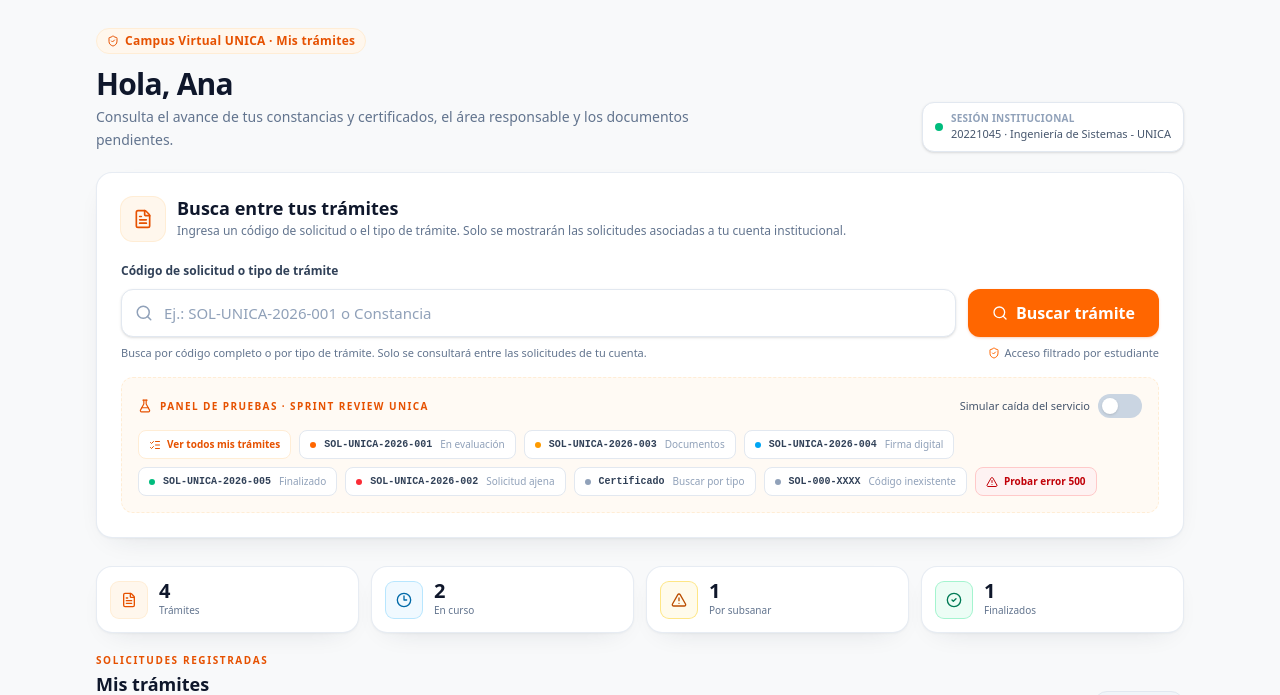
Scenario: Campus Virtual UNICA · integración UI › muestra la fase de firma digital
In the field labelled "Código de solicitud o tipo de trámite": (538, 312) top-left (121, 288), bottom-right (956, 336), type "SOL-UNICA-2026-004"
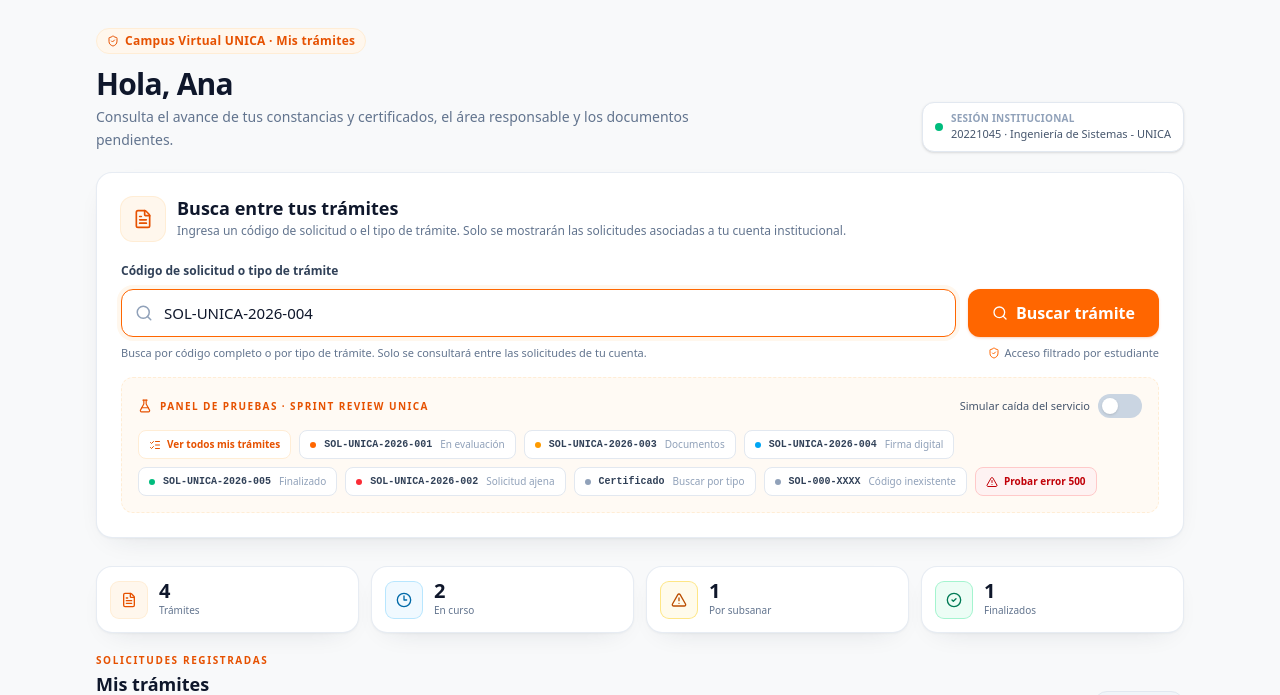
Click the button "Buscar trámite": (1063, 312) top-left (968, 288), bottom-right (1159, 336)
(page scrolled)
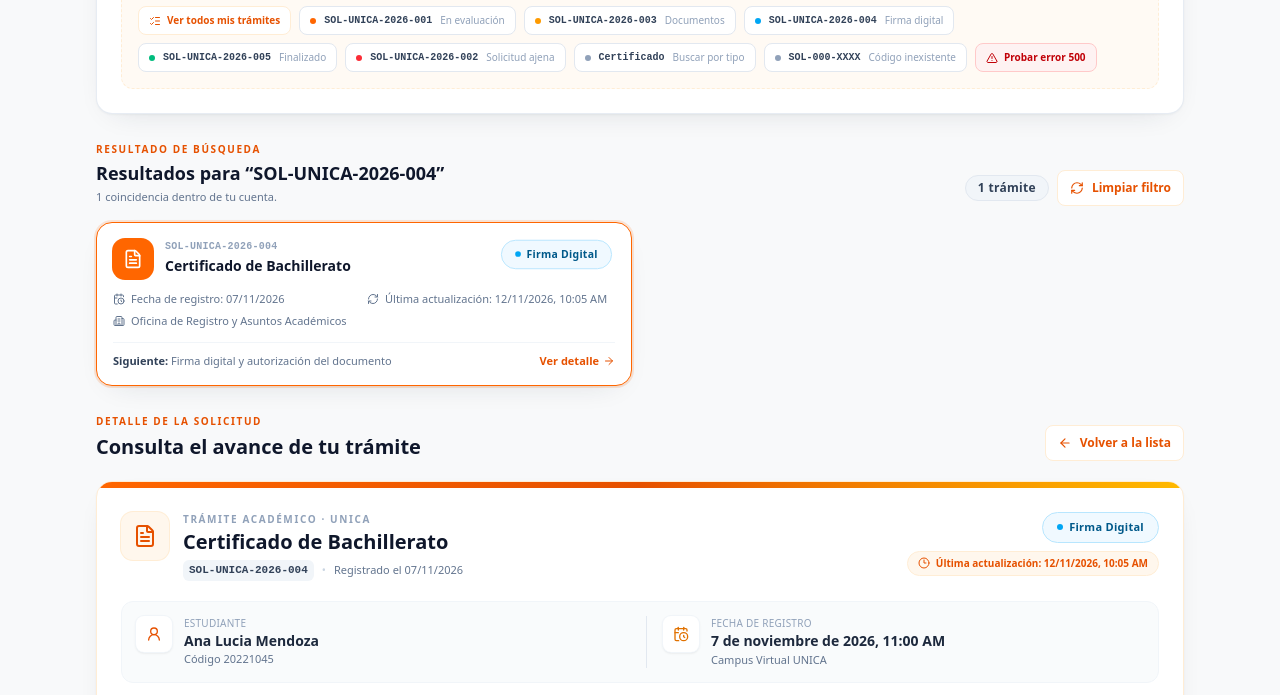
Expected: the text "Firma Digital" is shown, top-left (501, 239), bottom-right (612, 268)
Now the heading "Consulta el avance de tu trámite" is shown, box top-left (96, 433), bottom-right (421, 461)
